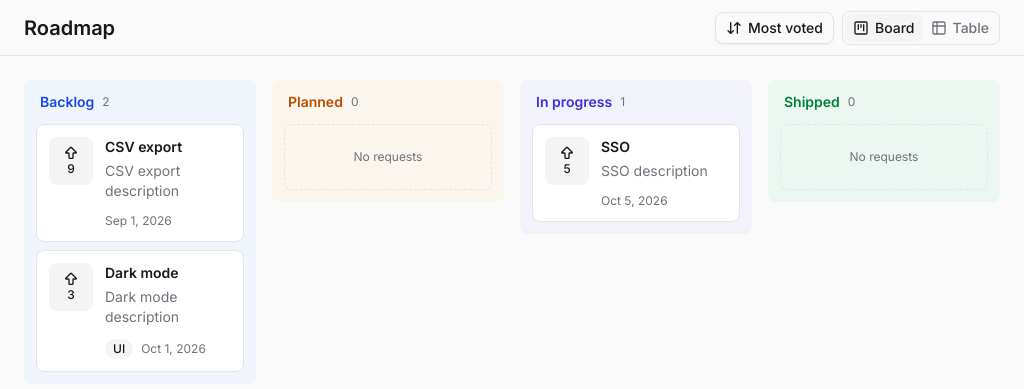
Test case: sorts by most voted, and by newest when picked
What coordinates should you click on to do the following:
click the button with aria-label "Sort: Most voted"
I would click on:
 (774, 28)
Its box is left=715, top=12, right=834, bottom=44.
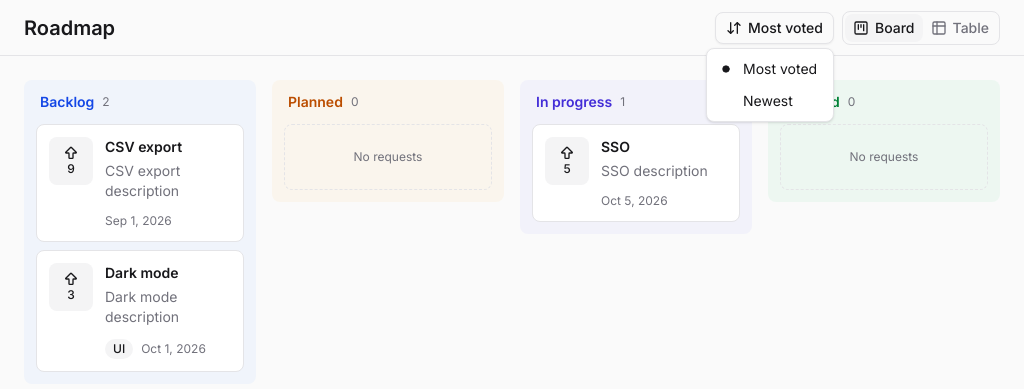
What coordinates should you click on to do the following:
click the menu item "Newest"
I would click on:
 (768, 100)
Its box is left=743, top=92, right=793, bottom=109.
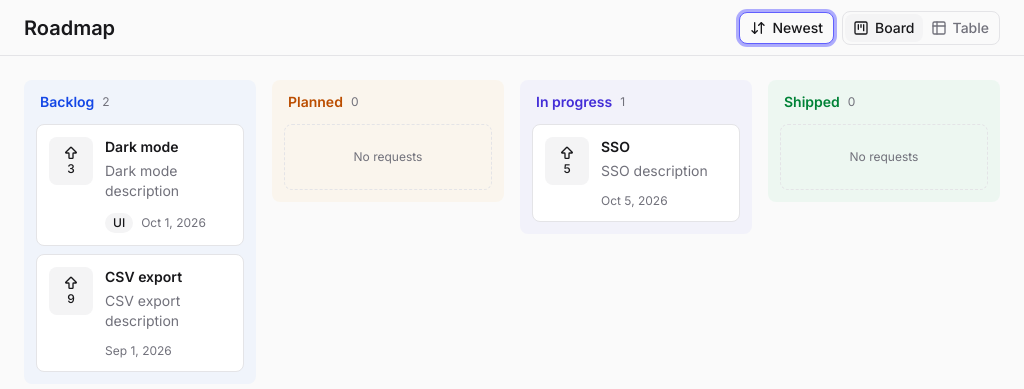
Expected: the button with aria-label "Sort: Newest" is shown, left=740, top=12, right=834, bottom=44
